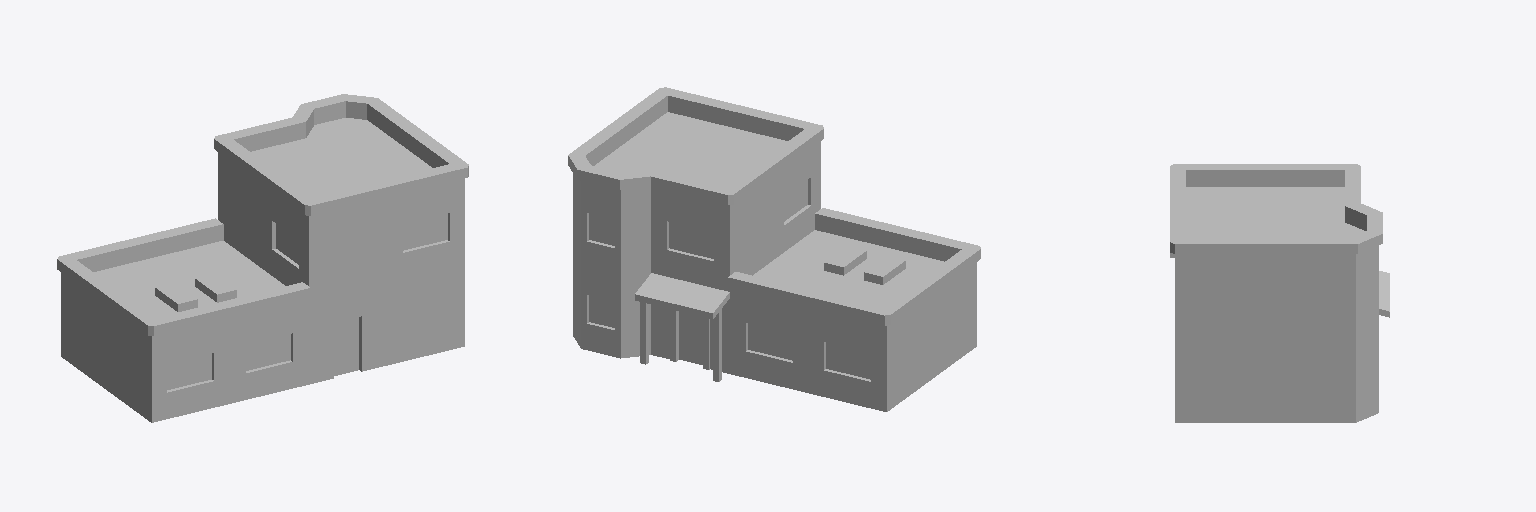
The model's file is small_building_e.obj.
The picture shows the model from 3 angles: view 1: azimuth 30°, elevation 25°; view 2: azimuth 150°, elevation 25°; view 3: azimuth 270°, elevation 25°; orthographic projection.
Parts seen in each view (by area): view 1: small_buildingE; view 2: small_buildingE; view 3: small_buildingE.
Part boxes in pixels (x1,y1,x2,y2): small_buildingE: (57, 94, 468, 422); small_buildingE: (568, 87, 980, 411); small_buildingE: (1170, 164, 1389, 422).
Bounding box in the file's own units: 3.28 × 1.76 × 1.94.